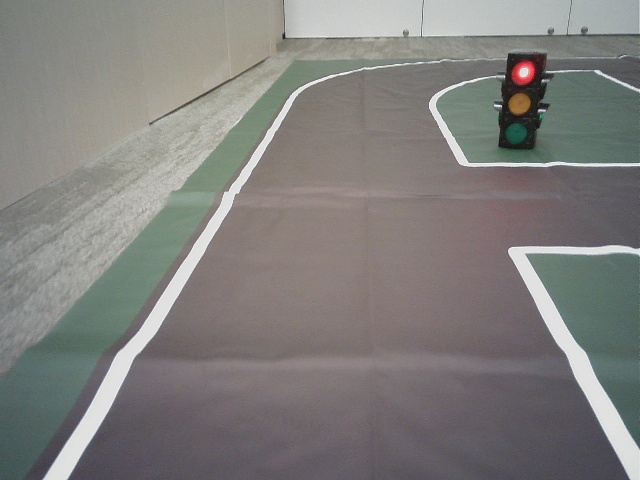red: (505, 57, 534, 147)
